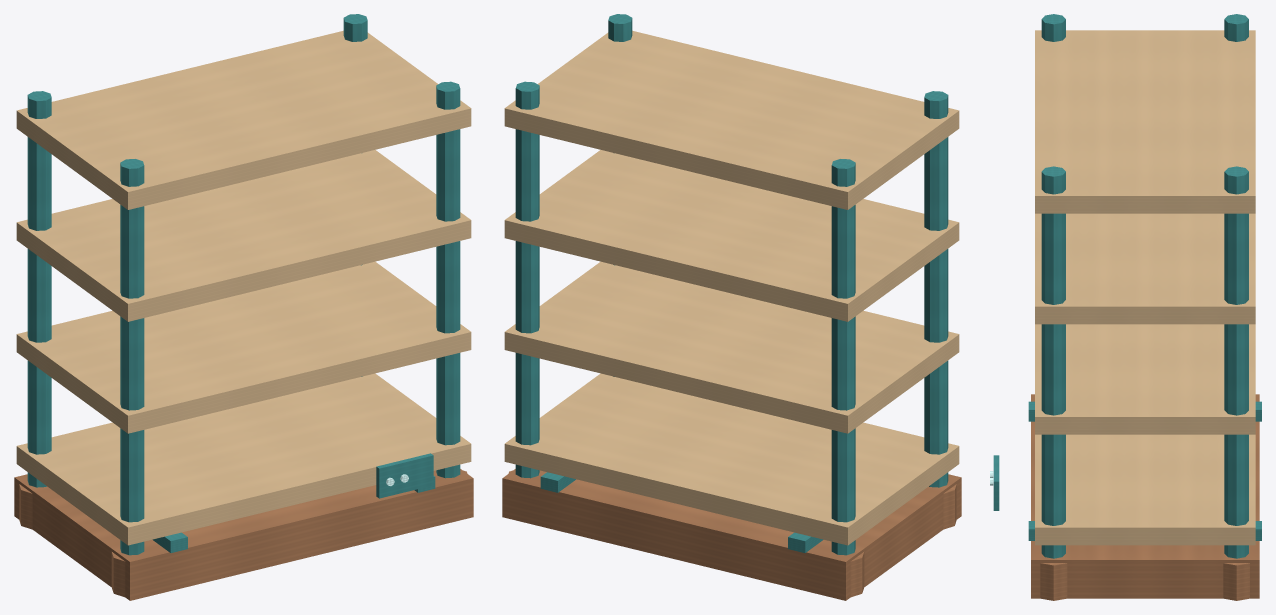
Rendered from atlas100-s094-a06.glb.
The picture shows the model from 3 angles, left to right: view 1: azimuth 30°, elevation 25°; view 2: azimuth 150°, elevation 25°; view 3: azimuth 270°, elevation 25°; orthographic projection.
Visible parts, largest first — view 1: atlas100-s094-a06:part-014, atlas100-s094-a06:part-012, atlas100-s094-a06:part-013, atlas100-s094-a06:part-011, atlas100-s094-a06:part-000, atlas100-s094-a06:part-005, atlas100-s094-a06:part-009, atlas100-s094-a06:part-003, atlas100-s094-a06:part-015, atlas100-s094-a06:part-007; view 2: atlas100-s094-a06:part-014, atlas100-s094-a06:part-011, atlas100-s094-a06:part-012, atlas100-s094-a06:part-013, atlas100-s094-a06:part-000, atlas100-s094-a06:part-003, atlas100-s094-a06:part-007, atlas100-s094-a06:part-005, atlas100-s094-a06:part-009; view 3: atlas100-s094-a06:part-014, atlas100-s094-a06:part-013, atlas100-s094-a06:part-011, atlas100-s094-a06:part-012, atlas100-s094-a06:part-000, atlas100-s094-a06:part-007, atlas100-s094-a06:part-009, atlas100-s094-a06:part-010, atlas100-s094-a06:part-008, atlas100-s094-a06:part-003, atlas100-s094-a06:part-005, atlas100-s094-a06:part-015.
Boxes of the visible parts, x1,y1,x2,y2 form: atlas100-s094-a06:part-014: (16, 30, 471, 209); atlas100-s094-a06:part-012: (16, 261, 471, 433); atlas100-s094-a06:part-013: (16, 150, 471, 321); atlas100-s094-a06:part-011: (16, 373, 471, 545); atlas100-s094-a06:part-000: (14, 469, 473, 600); atlas100-s094-a06:part-005: (120, 159, 144, 555); atlas100-s094-a06:part-009: (436, 81, 460, 478); atlas100-s094-a06:part-003: (27, 91, 51, 487); atlas100-s094-a06:part-015: (376, 453, 433, 498); atlas100-s094-a06:part-007: (343, 14, 367, 376); atlas100-s094-a06:part-014: (504, 30, 959, 209); atlas100-s094-a06:part-011: (504, 373, 959, 545); atlas100-s094-a06:part-012: (504, 261, 959, 433); atlas100-s094-a06:part-013: (504, 150, 959, 321); atlas100-s094-a06:part-000: (502, 469, 961, 600); atlas100-s094-a06:part-003: (831, 159, 855, 555); atlas100-s094-a06:part-007: (515, 81, 539, 478); atlas100-s094-a06:part-005: (924, 91, 948, 487); atlas100-s094-a06:part-009: (608, 14, 632, 376); atlas100-s094-a06:part-014: (1035, 30, 1255, 213); atlas100-s094-a06:part-013: (1035, 213, 1255, 324); atlas100-s094-a06:part-011: (1035, 434, 1255, 545); atlas100-s094-a06:part-012: (1035, 324, 1255, 434); atlas100-s094-a06:part-000: (1031, 394, 1259, 598); atlas100-s094-a06:part-007: (1224, 166, 1248, 558); atlas100-s094-a06:part-009: (1041, 166, 1065, 558); atlas100-s094-a06:part-010: (1040, 563, 1067, 600); atlas100-s094-a06:part-008: (1223, 563, 1249, 600); atlas100-s094-a06:part-003: (1224, 14, 1248, 41); atlas100-s094-a06:part-005: (1041, 14, 1065, 41); atlas100-s094-a06:part-015: (993, 455, 999, 510).
Bounding box in the file's own units: 2.47 × 2.84 × 1.66.
Materials: 4 (4 with a texture image).
